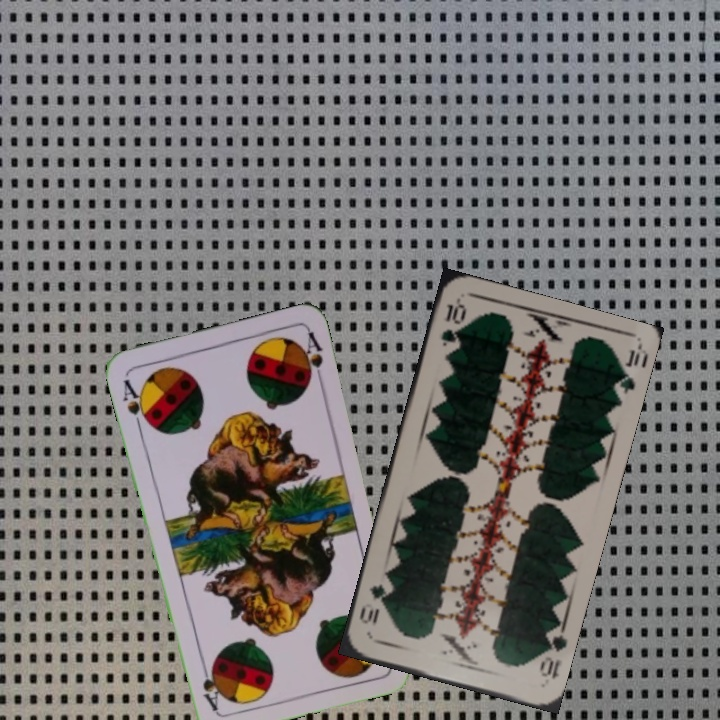G10: (535, 624, 570, 682), (437, 297, 468, 349)
SA: (118, 375, 153, 432)
